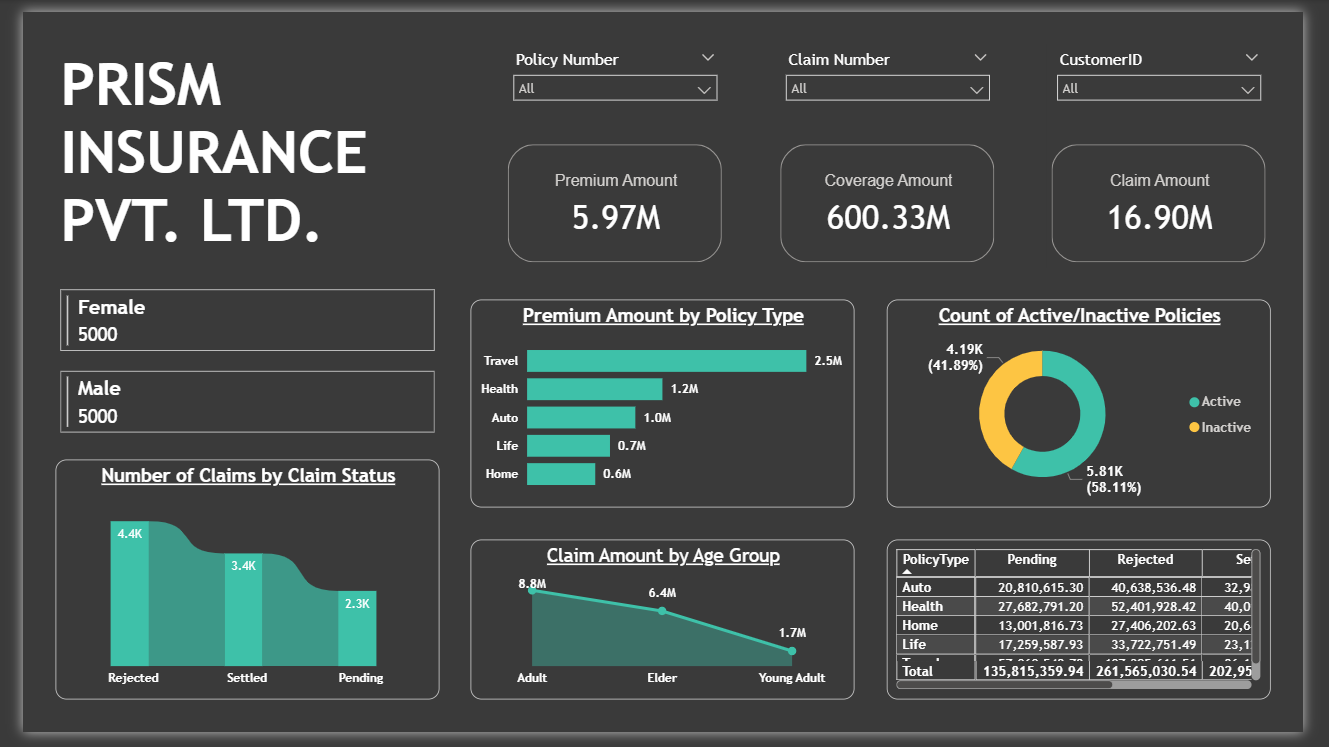

Layout of this report page (visuals, bound fields, positions):
{"tool":"powerbi","page":{"name":"Overview","canvas":[1280,720],"ordinal":0},"visuals":[{"type":"slicer","fields":{"Values":["InsuranceData.PolicyNumber"]},"box":[480,32,224,96],"z":0},{"type":"slicer","fields":{"Values":["InsuranceData.ClaimNumber"]},"box":[752,32,224,96],"z":1000},{"type":"slicer","fields":{"Values":["InsuranceData.CustomerID"]},"box":[1024,32,224,96],"z":2000},{"type":"textbox","box":[32,32,384,224],"z":3000},{"type":"cardVisual","fields":{"Data":["Sum(InsuranceData.PremiumAmount)"]},"box":[480,128,224,128],"z":4000},{"type":"cardVisual","fields":{"Data":["Sum(InsuranceData.ClaimAmount)"]},"box":[1024,128,224,128],"z":5000},{"type":"cardVisual","fields":{"Data":["Sum(InsuranceData.CoverageAmount)"]},"box":[752,128,224,128],"z":6000},{"type":"multiRowCard","fields":{"Values":["InsuranceData.Gender","CountNonNull(InsuranceData.Gender)"]},"box":[32,272,384,176],"z":7000},{"type":"ribbonChart","title":"Number of Claims by Claim Status","fields":{"Category":["InsuranceData.ClaimStatus"],"Y":["CountNonNull(InsuranceData.ClaimStatus)"]},"box":[32,448,384,240],"z":8000},{"type":"barChart","title":"Premium Amount by Policy Type","fields":{"Category":["InsuranceData.PolicyType"],"Y":["Sum(InsuranceData.PremiumAmount)"]},"box":[448,288,384,208],"z":9000},{"type":"lineChart","title":"Claim Amount by Age Group","fields":{"Category":["InsuranceData.Age Group"],"Y":["Sum(InsuranceData.ClaimAmount)"]},"box":[448,528,384,160],"z":10000},{"type":"donutChart","title":"Count of Active/Inactive Policies","fields":{"Category":["InsuranceData.Active/Inactive"],"Y":["CountNonNull(InsuranceData.Active/Inactive)"]},"box":[864,288,384,208],"z":11000},{"type":"pivotTable","fields":{"Values":["Sum(InsuranceData.CoverageAmount)"],"Rows":["InsuranceData.PolicyType"],"Columns":["InsuranceData.ClaimStatus"]},"box":[864,528,384,160],"z":12000}]}

Visuals, with their boxes in screenshot pixels (x1, y1, x2, y2), scaled from the page's 1280x720 canvas onto the 1329x747 screenshot:
slicer - InsuranceData.PolicyNumber: region(498, 33, 731, 133)
slicer - InsuranceData.ClaimNumber: region(781, 33, 1013, 133)
slicer - InsuranceData.CustomerID: region(1063, 33, 1296, 133)
textbox: region(33, 33, 432, 266)
cardVisual - Sum(InsuranceData.PremiumAmount): region(498, 133, 731, 266)
cardVisual - Sum(InsuranceData.ClaimAmount): region(1063, 133, 1296, 266)
cardVisual - Sum(InsuranceData.CoverageAmount): region(781, 133, 1013, 266)
multiRowCard - InsuranceData.Gender x CountNonNull(InsuranceData.Gender): region(33, 282, 432, 465)
"Number of Claims by Claim Status" ribbonChart: region(33, 465, 432, 714)
"Premium Amount by Policy Type" barChart: region(465, 299, 864, 515)
"Claim Amount by Age Group" lineChart: region(465, 548, 864, 714)
"Count of Active/Inactive Policies" donutChart: region(897, 299, 1296, 515)
pivotTable - Sum(InsuranceData.CoverageAmount) x InsuranceData.PolicyType: region(897, 548, 1296, 714)
